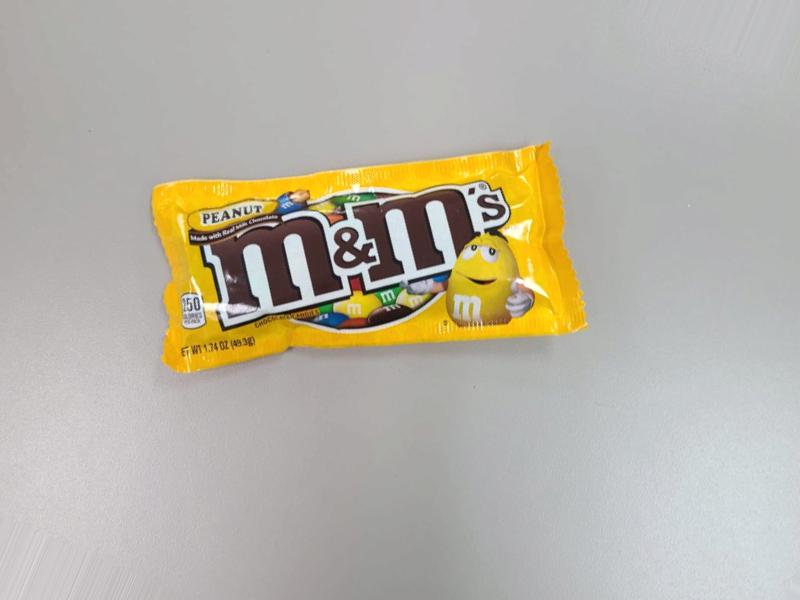m&m: (174, 149, 579, 368)
